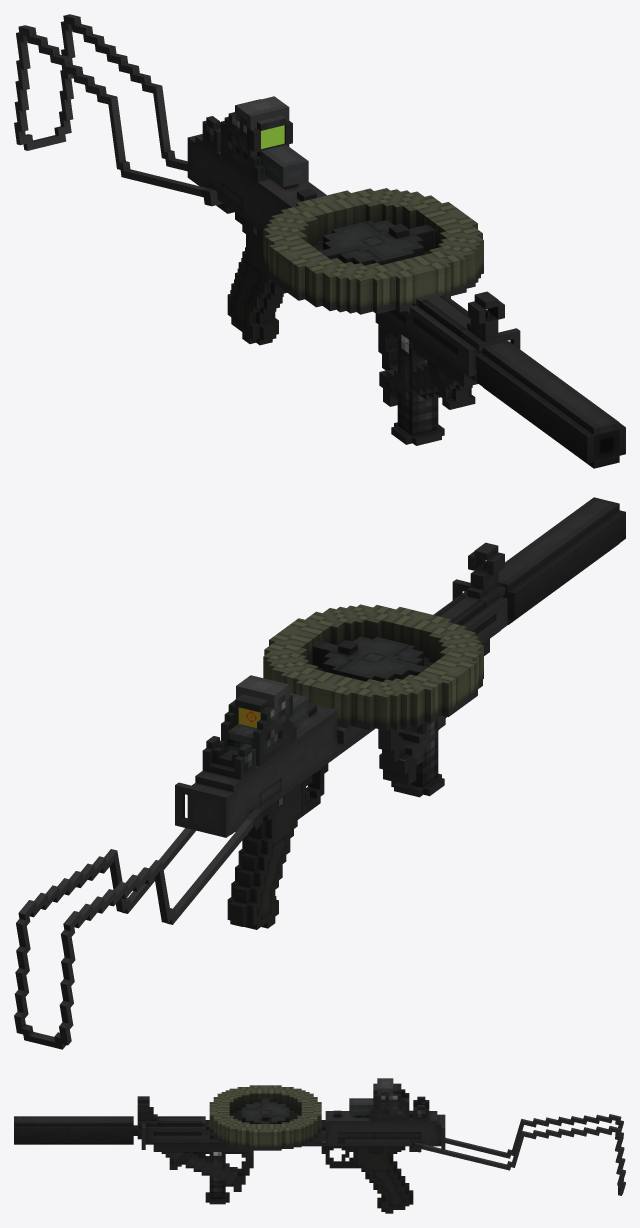
File: RD_MGV176_NY.glb
The picture shows the model from 3 angles, top to bottom: view 1: azimuth 30°, elevation 25°; view 2: azimuth 150°, elevation 25°; view 3: azimuth 270°, elevation 25°; orthographic projection. The views are drawn at different scales.
Visible parts, largest first — view 1: MGV176_CLIP, MGV176, SILENCER_6X6, MGV176_BUTTSTOCK, GRIP2, GRIP1, SCOPE_EOTECH, SCOPE_HOLOSUN, SCOPE_AIMPOINT; view 2: MGV176, MGV176_CLIP, MGV176_BUTTSTOCK, SILENCER_6X6, SCOPE_EOTECH, GRIP2, GRIP1, SCOPE_HOLOSUN; view 3: MGV176, MGV176_CLIP, SILENCER_6X6, MGV176_BUTTSTOCK, GRIP2, SCOPE_EOTECH, GRIP1, SCOPE_HOLOSUN.
Part boxes in pixels (bbox=[...]): MGV176_CLIP: bbox=[263, 188, 483, 314]; MGV176: bbox=[187, 116, 520, 381]; SILENCER_6X6: bbox=[476, 341, 625, 468]; MGV176_BUTTSTOCK: bbox=[14, 14, 222, 206]; GRIP2: bbox=[375, 313, 478, 409]; GRIP1: bbox=[391, 322, 444, 445]; SCOPE_EOTECH: bbox=[221, 99, 308, 187]; SCOPE_HOLOSUN: bbox=[225, 96, 289, 176]; SCOPE_AIMPOINT: bbox=[247, 115, 292, 157]; MGV176: bbox=[175, 542, 507, 929]; MGV176_CLIP: bbox=[263, 604, 483, 730]; MGV176_BUTTSTOCK: bbox=[14, 809, 262, 1049]; SILENCER_6X6: bbox=[498, 497, 625, 624]; SCOPE_EOTECH: bbox=[221, 693, 308, 766]; GRIP2: bbox=[378, 639, 489, 785]; GRIP1: bbox=[391, 719, 444, 797]; SCOPE_HOLOSUN: bbox=[229, 675, 289, 757]; MGV176: bbox=[133, 1096, 445, 1213]; MGV176_CLIP: bbox=[209, 1085, 321, 1150]; SILENCER_6X6: bbox=[14, 1116, 133, 1144]; MGV176_BUTTSTOCK: bbox=[412, 1114, 625, 1195]; GRIP2: bbox=[153, 1144, 253, 1191]; SCOPE_EOTECH: bbox=[349, 1083, 409, 1120]; GRIP1: bbox=[205, 1144, 229, 1204]; SCOPE_HOLOSUN: bbox=[377, 1078, 408, 1120].
Bounding box in the file's own units: 0.2755 × 0.3444 × 1.51.
Materials: 10 (10 with a texture image).
